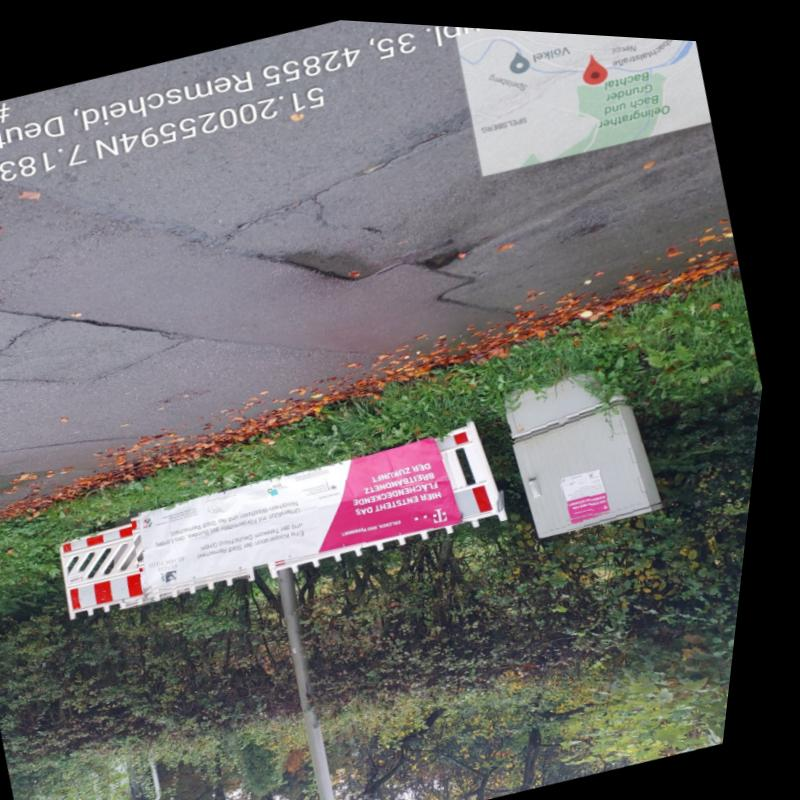Banner: (133, 414, 487, 611)
NT-Gehause: (495, 353, 682, 540)
Steaker: (571, 461, 621, 510)
